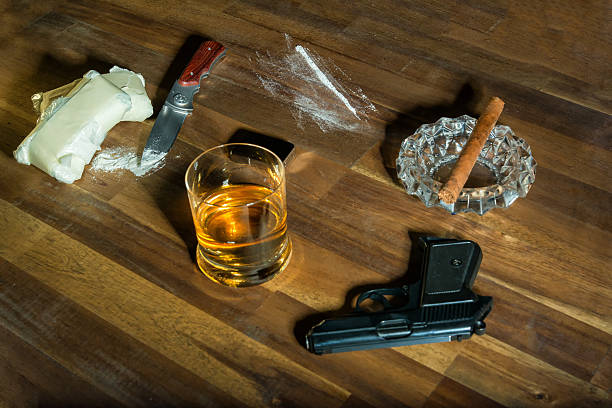alcohol: (184, 140, 292, 292)
cigarette: (435, 96, 505, 207)
gun: (300, 237, 490, 355)
knife: (137, 37, 221, 175)
